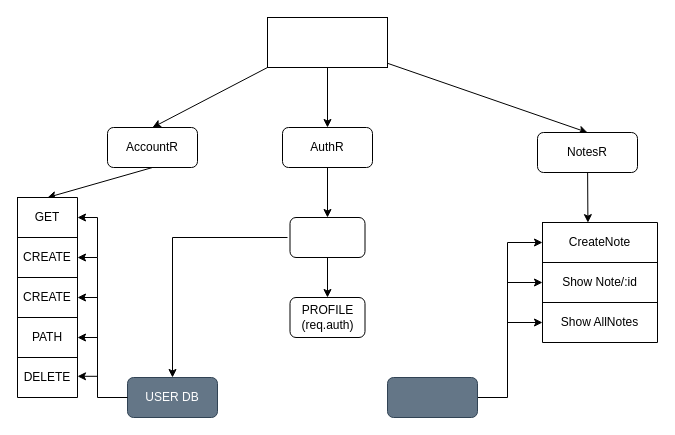
Image size: 675x435. Some labels were removed from this diagram. Each missing label, with the centre of its shape:
API LOGIN: pixel 327 42
LOGIN: pixel 327 237
NOTES DB: pixel 432 397
